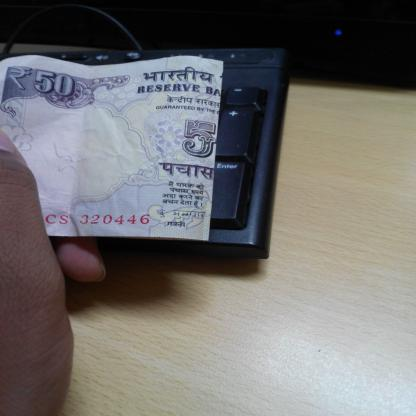Old50Front: (0, 53, 226, 243)
